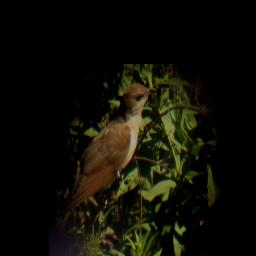Cuckoo: (52, 83, 157, 240)
